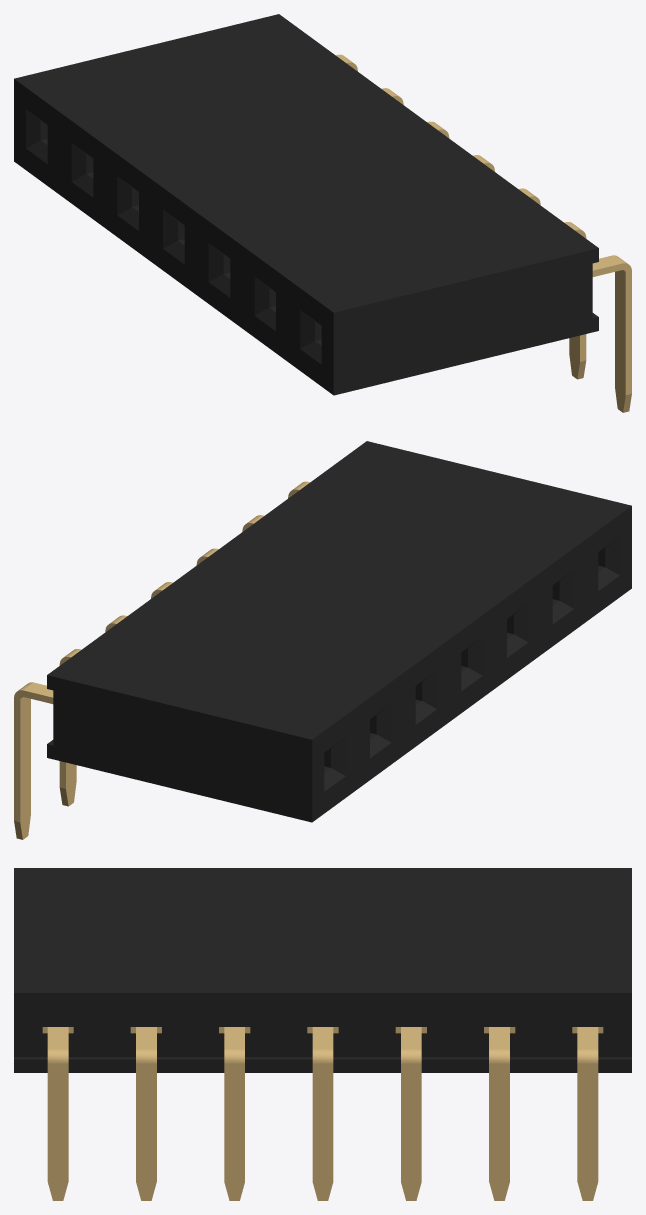
File: kc-pinsocket_1x07_p2.54mm_horizontal.glb
3 views of the same model, one above another, from view 1: azimuth 30°, elevation 25°; view 2: azimuth 150°, elevation 25°; view 3: azimuth 270°, elevation 25° (orthographic). The views are drawn at different scales.
Visible parts, largest first — view 1: 0_0_0_0, 0.75_0.5_0.25_0.9; view 2: 0_0_0_0, 0.75_0.5_0.25_0.9; view 3: 0_0_0_0, 0.75_0.5_0.25_0.9.
Part boxes in pixels (<box>): 0_0_0_0: <box>14,14,598,395</box>; 0.75_0.5_0.25_0.9: <box>336,54,631,412</box>; 0_0_0_0: <box>47,441,631,822</box>; 0.75_0.5_0.25_0.9: <box>14,481,309,839</box>; 0_0_0_0: <box>14,868,631,1072</box>; 0.75_0.5_0.25_0.9: <box>42,1027,603,1200</box>.
Size of the model in its own units: 1.01 by 0.584 by 1.78.
